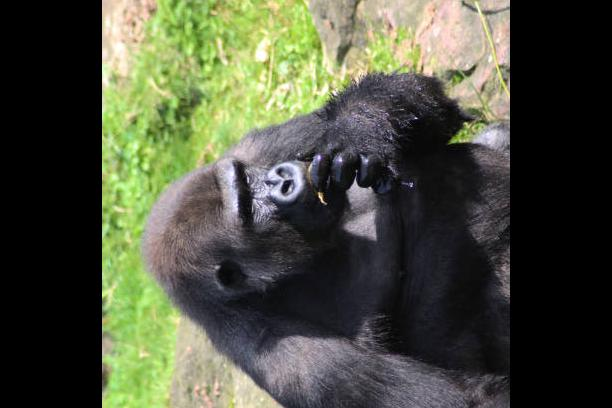gorille_Autres: (132, 32, 510, 408)
